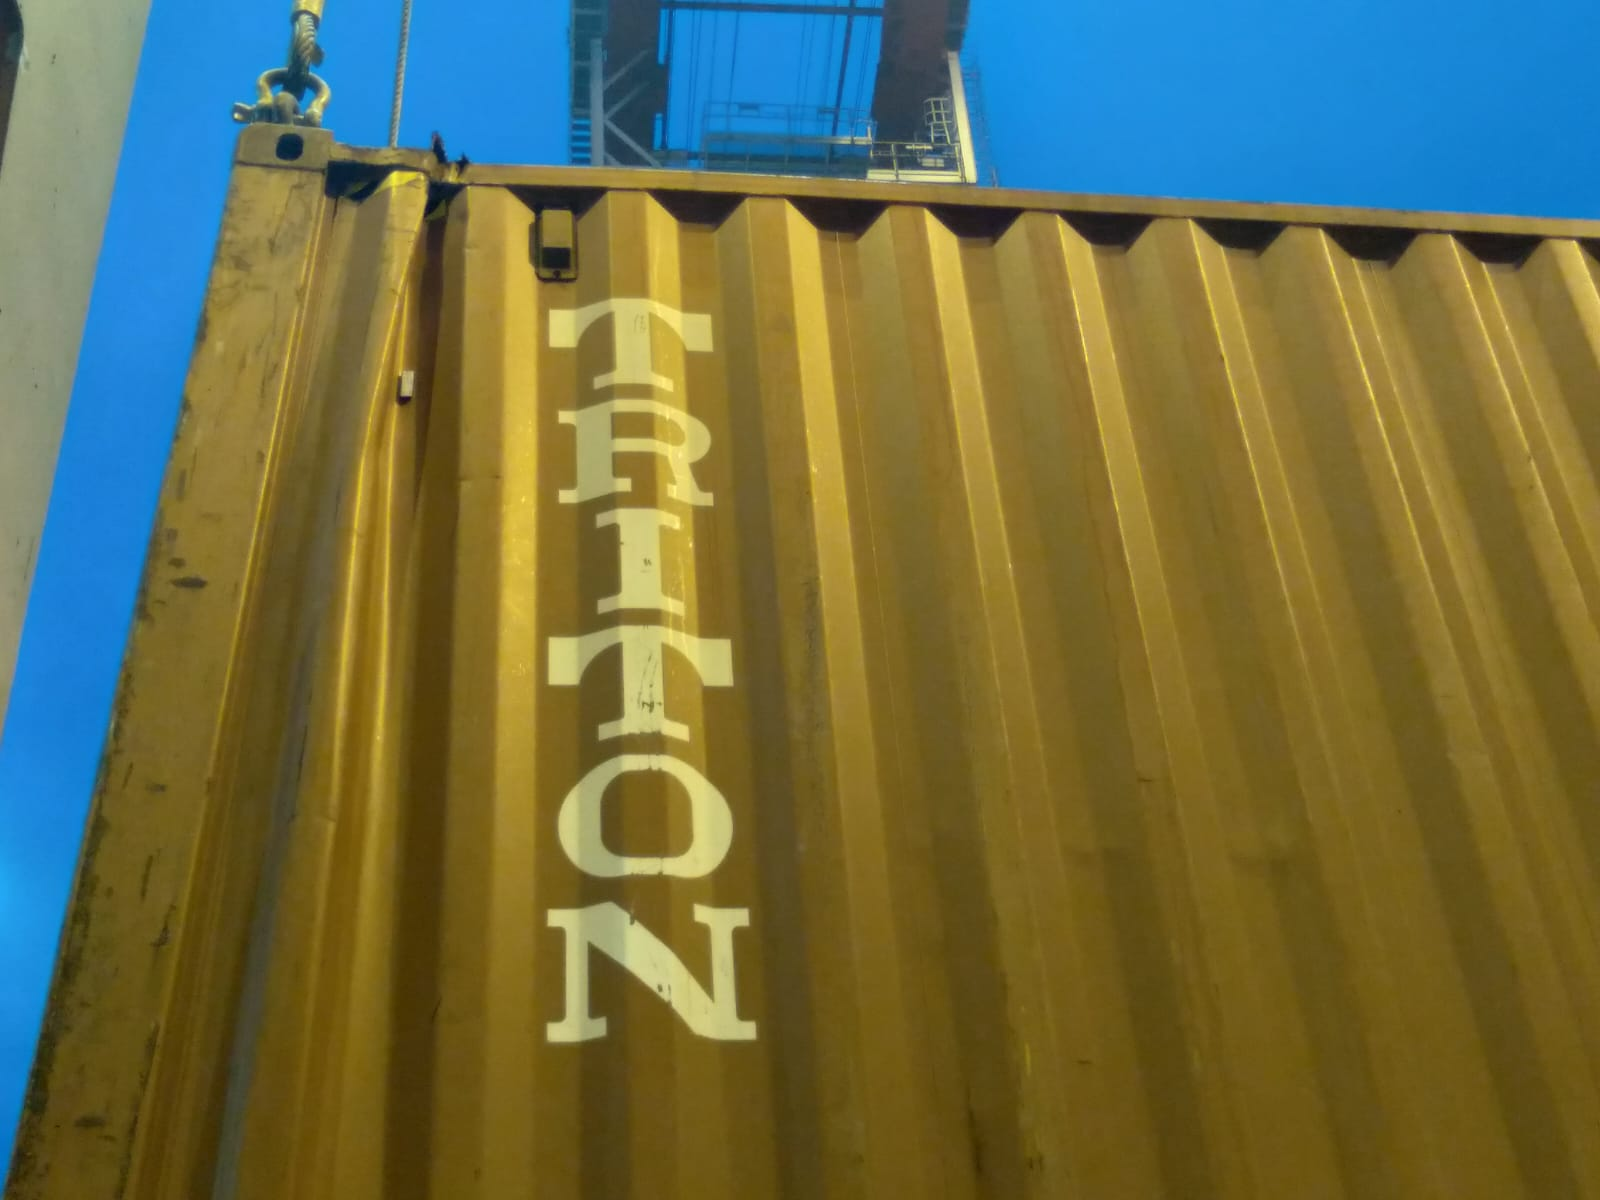moderate: (294, 146, 591, 724)
